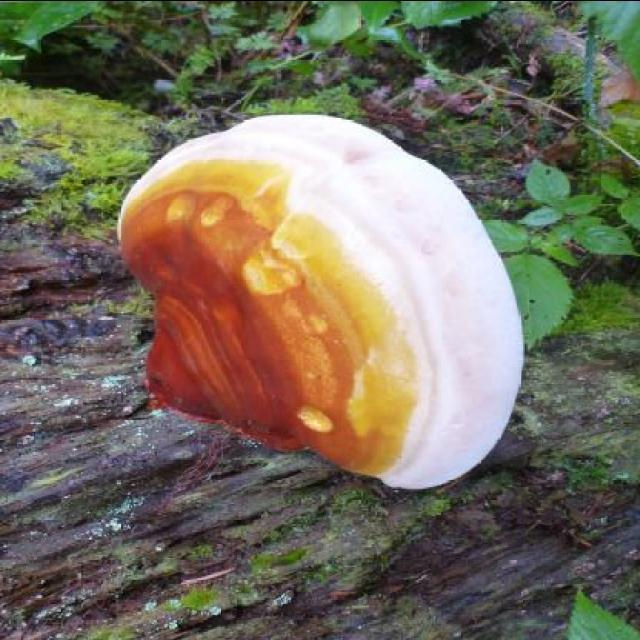Mushroom: (108, 110, 537, 522)
